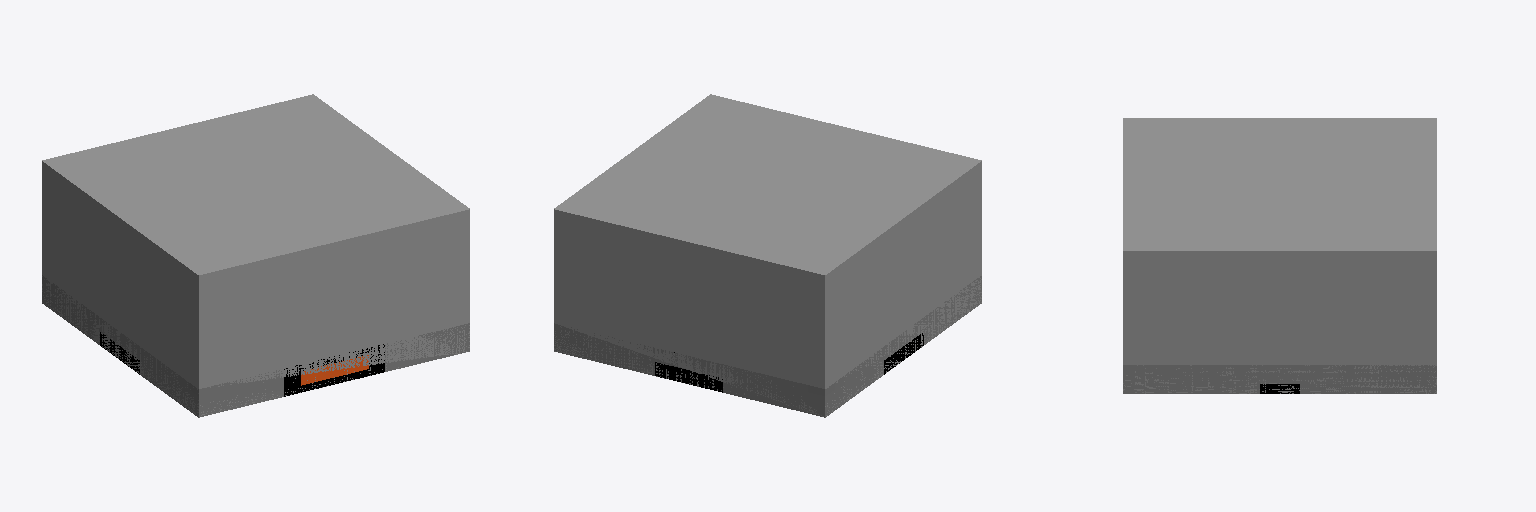
3 renders of one model, left to right at view 1: azimuth 30°, elevation 25°; view 2: azimuth 150°, elevation 25°; view 3: azimuth 270°, elevation 25°, orthographic.
Parts seen in each view (by area): view 1: Minecraft_Block_Cube, Cube_Cube.001; view 2: Minecraft_Block_Cube, Cube_Cube.001; view 3: Minecraft_Block_Cube, Cube_Cube.001.
Boxes of the visible parts, box(x1,y1,x2,y2) form: Minecraft_Block_Cube: box(42, 94, 469, 417); Cube_Cube.001: box(42, 275, 469, 417); Minecraft_Block_Cube: box(554, 94, 981, 416); Cube_Cube.001: box(554, 276, 981, 417); Minecraft_Block_Cube: box(1123, 118, 1436, 393); Cube_Cube.001: box(1123, 365, 1436, 393).
Size of the model in its own units: 1 by 0.5 by 1.
Materials: 5 (1 with a texture image).